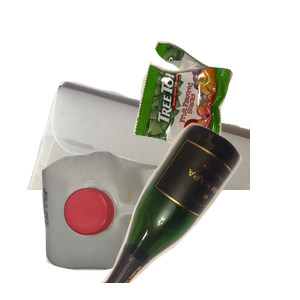glass: (87, 120, 300, 300)
paper: (25, 79, 265, 259)
plastic: (39, 149, 203, 300)
trash: (131, 38, 300, 182)
